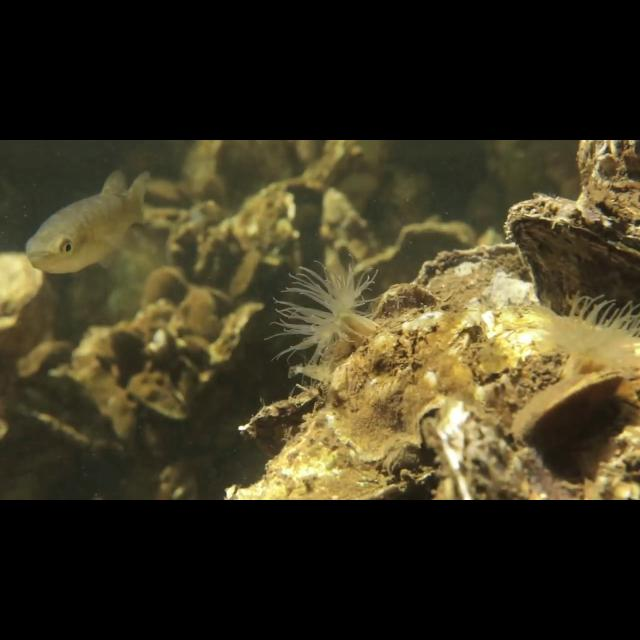Oyster-Closed: (499, 184, 637, 319), (509, 365, 628, 450), (235, 380, 326, 455)
